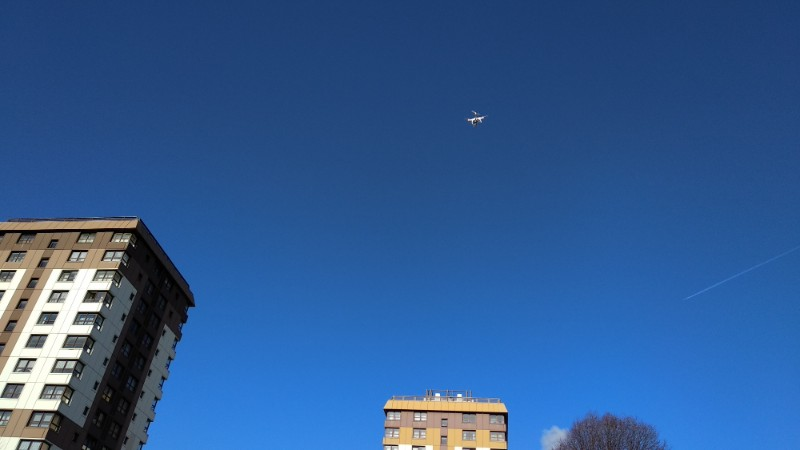drone: (464, 108, 489, 129)
